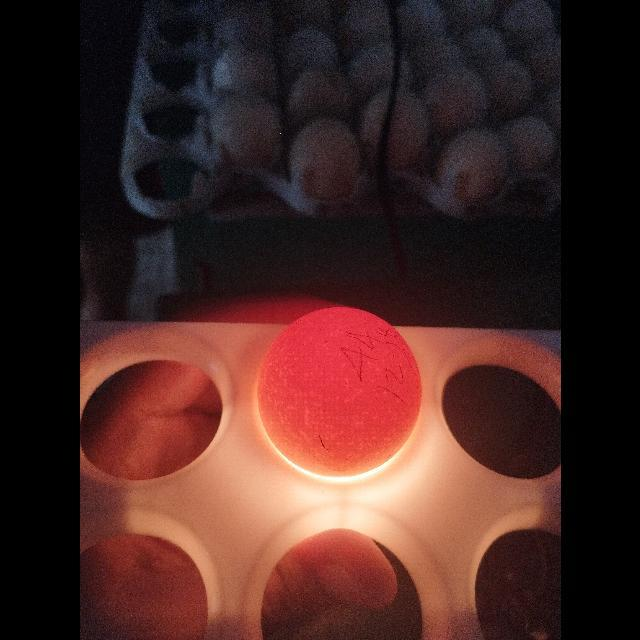Infertile: (254, 304, 426, 486)
